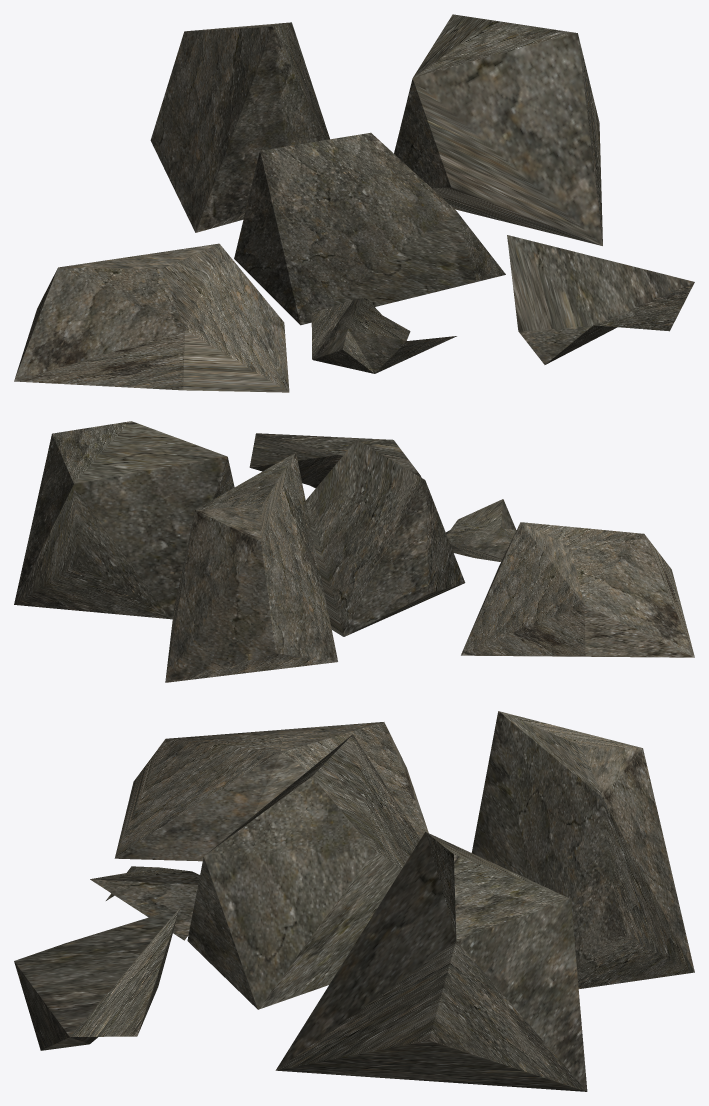
Rendered from mm9_deco_stonedebris05ls.glb.
3 views of the same model, one above another, from view 1: azimuth 30°, elevation 25°; view 2: azimuth 150°, elevation 25°; view 3: azimuth 270°, elevation 25° (orthographic). The views are drawn at different scales.
Parts seen in each view (by area): view 1: Stonedebris05ls; view 2: Stonedebris05ls; view 3: Stonedebris05ls.
Boxes of the visible parts, x1,y1,x2,y2 form: Stonedebris05ls: [14, 14, 694, 392]; Stonedebris05ls: [14, 421, 694, 682]; Stonedebris05ls: [14, 711, 694, 1091].
Size of the model in its own units: 2.38 by 0.7236 by 1.92.
Materials: 1 (1 with a texture image).
